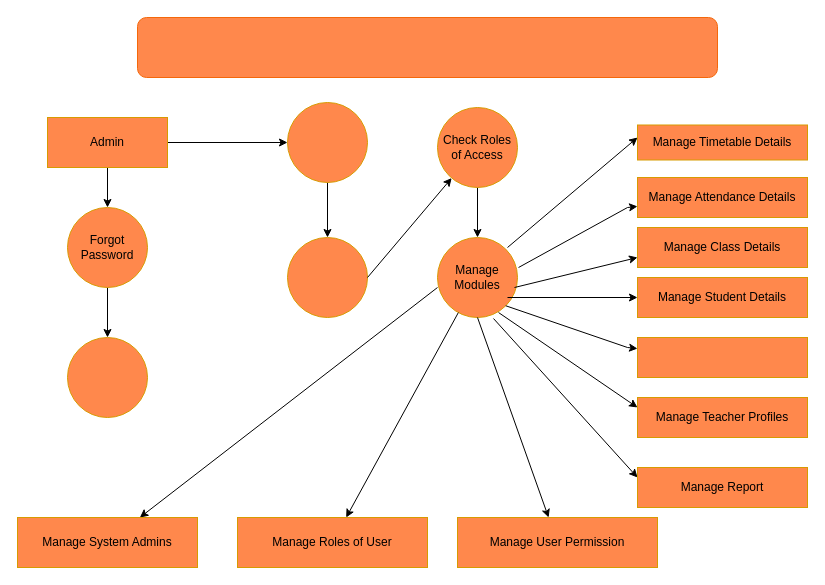
This 825x585 diagram has some shape labels left out. The shapes that lost their labels are listed below. From the top down, each one's box as (x1, y1, x2, y2) in pixels, then its label:
(136, 16, 718, 78): Student Information System
(286, 102, 368, 182): Login to System
(286, 236, 368, 318): Check Credentials
(636, 336, 808, 378): Manage Fees Details
